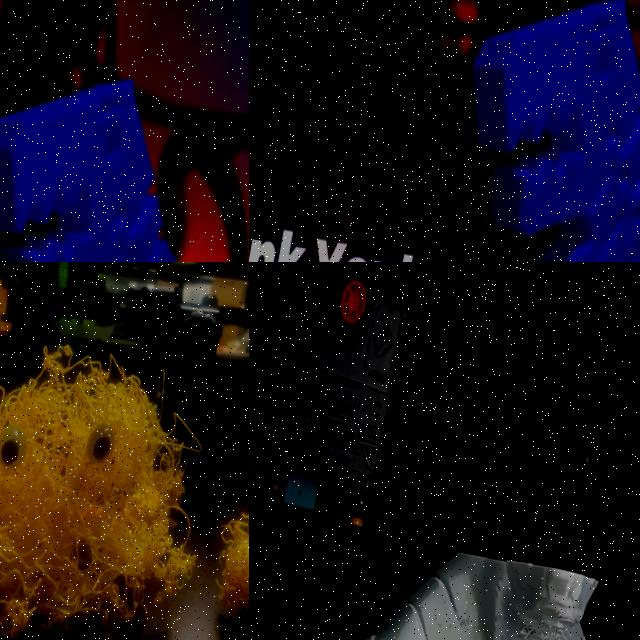spaghetti: (0, 339, 200, 640), (215, 484, 249, 615)
